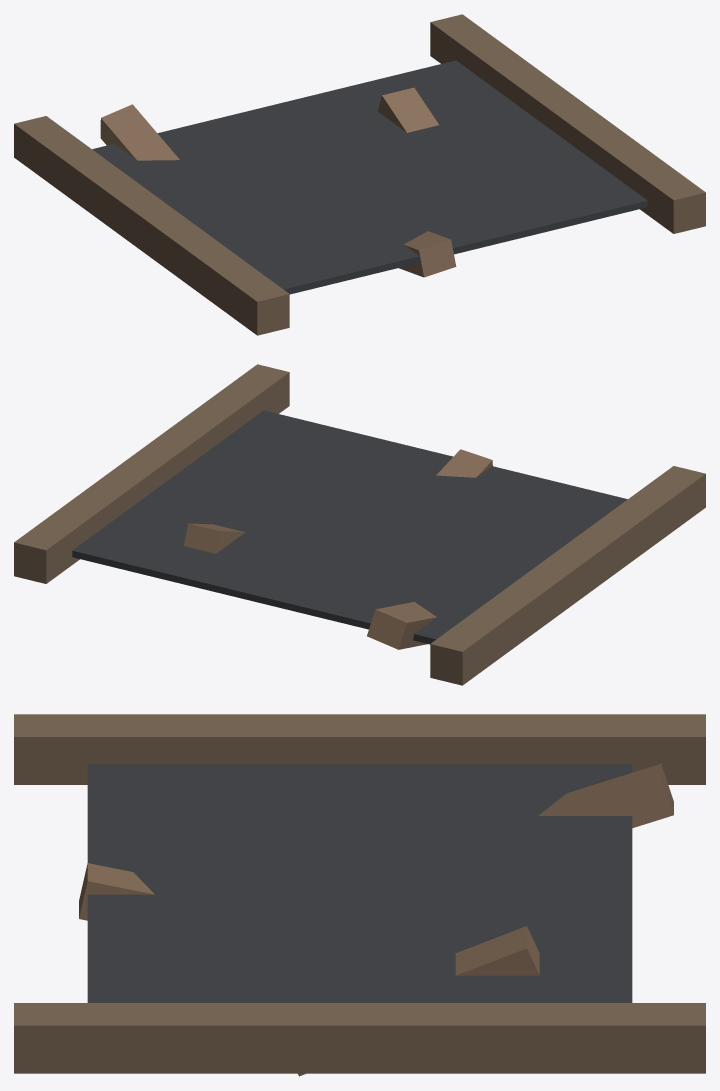
File: roofDamage083-46f4a09b0a53.glb
The picture shows the model from 3 angles, top to bottom: view 1: azimuth 30°, elevation 25°; view 2: azimuth 150°, elevation 25°; view 3: azimuth 270°, elevation 25°; orthographic projection. The views are drawn at different scales.
Parts seen in each view (by area): view 1: hole_shadow, left_rafter, right_rafter, broken_board_0, broken_board_2, broken_board_1; view 2: hole_shadow, left_rafter, right_rafter, broken_board_0, broken_board_2, broken_board_1; view 3: hole_shadow, right_rafter, left_rafter, broken_board_0, broken_board_2, broken_board_1.
Part boxes in pixels (<box>): hole_shadow: <box>92,60,647,294</box>; left_rafter: <box>14,116,289,335</box>; right_rafter: <box>430,14,705,233</box>; broken_board_0: <box>100,104,179,160</box>; broken_board_2: <box>377,87,438,132</box>; broken_board_1: <box>399,231,456,277</box>; hole_shadow: <box>72,410,627,644</box>; left_rafter: <box>430,466,705,685</box>; right_rafter: <box>14,364,289,583</box>; broken_board_0: <box>367,601,436,649</box>; broken_board_2: <box>183,523,245,553</box>; broken_board_1: <box>436,449,492,477</box>; hole_shadow: <box>87,764,632,1002</box>; right_rafter: <box>14,1003,705,1073</box>; left_rafter: <box>14,714,705,784</box>; broken_board_0: <box>538,764,673,828</box>; broken_board_2: <box>298,926,539,1076</box>; broken_board_1: <box>79,863,154,920</box>.
Size of the model in its own units: 2.5 by 0.5428 by 2.35.
